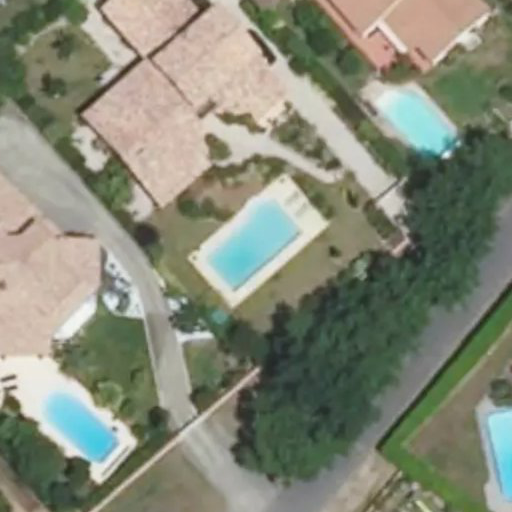pool: (210, 201, 303, 293), (378, 89, 456, 162), (42, 392, 120, 464), (487, 408, 512, 503)
